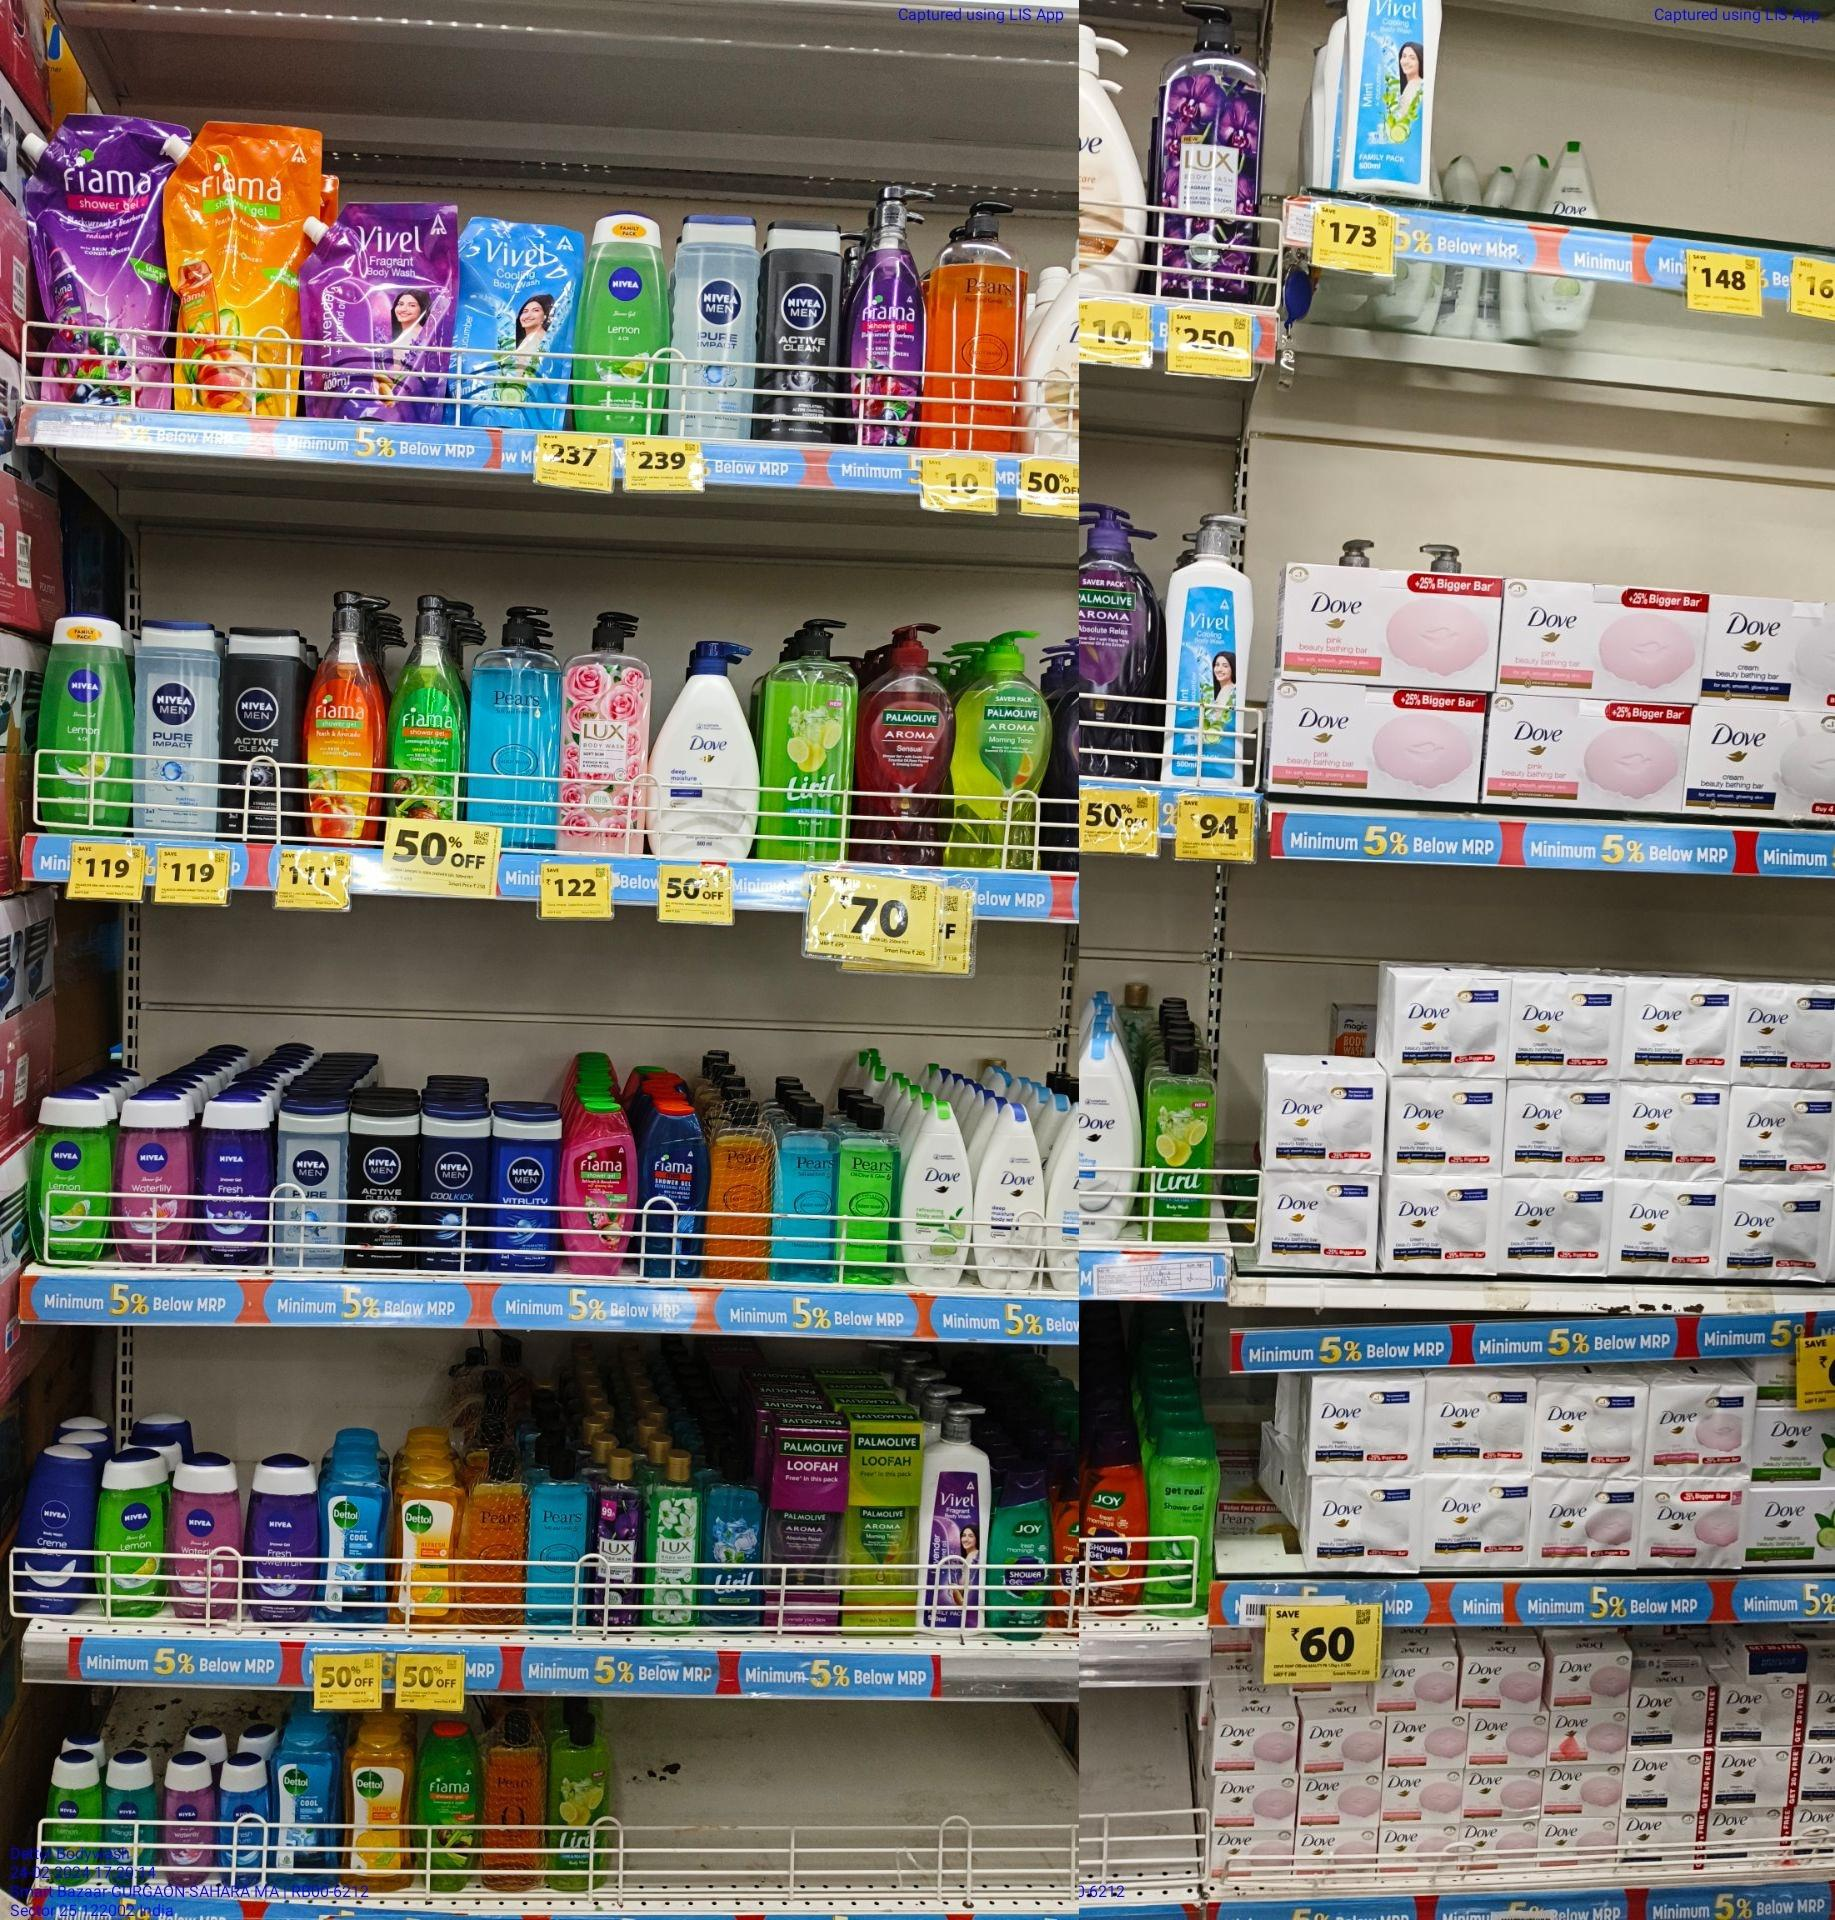Dettol_Bodywash_Cool: (317, 1457, 382, 1625), (273, 1726, 333, 1889)
Dettol_Bodywash_Refresh: (340, 1730, 410, 1893), (389, 1459, 453, 1625)
Dove_Deep_Moisture_Body_Wash_250ML: (974, 1102, 1044, 1284)
Dove_Gentle_Exfoliating_Body_Wash_250ML: (1084, 1032, 1135, 1239)
Dove_Refreshing_Body_Wash_250ML: (899, 1106, 969, 1287)
Fiama_Shower_Gel_Lemongrass_and_Jojoba_250ML: (418, 1731, 480, 1884)
Fiama_Shower_Gel_Patchouli_and_Macadamia_250ML: (563, 1095, 638, 1274)
Joy_Shower_Gel_Mandarin_and_Lemongrass_250ML: (1084, 1430, 1147, 1618)
Joy_Shower_Gel_Mint_and_Eucalyptus_250ML: (988, 1454, 1055, 1641)
Liril_Cooling_Mint_Body_Wash_250ML: (700, 1454, 760, 1627)
Liril_Lime_and_Tea_Tree_Oil_Body_Wash_250ML: (1144, 1035, 1211, 1245), (545, 1721, 614, 1898)
Lux_Black_Orchid_Scent_and_Juniper_Oil_Body_Wash_245ML: (592, 1450, 643, 1632)
Lux_Body_Wash_Skin_Detox_Freesia_Scent_and_Alove_Vera_245ML: (647, 1462, 691, 1630)
Nivea_Creme_Care_Body_Wash_250ML: (15, 1457, 93, 1613)
Nivea_Shower_Gel_Fresh_Powerfruit_250ML: (194, 1104, 271, 1267), (245, 1454, 314, 1632)
Nivea_Shower_Gel_Lemon_and_Oil_250ML: (39, 609, 132, 837), (578, 214, 662, 432), (24, 1087, 108, 1265), (98, 1464, 168, 1622)
Nivea_Shower_Gel_Waterlily_and_Oil_250ML: (111, 1099, 189, 1260), (173, 1461, 240, 1622)
Pears_Pure_Glycerin_and_Lemon_Flower_Extracts_Body_Wash_250ML: (840, 1104, 893, 1282)
Pears_Pure_Glycerin_and_Mint_Extracts_Body_Wash_250ML: (773, 1101, 837, 1284), (530, 1457, 585, 1634)
